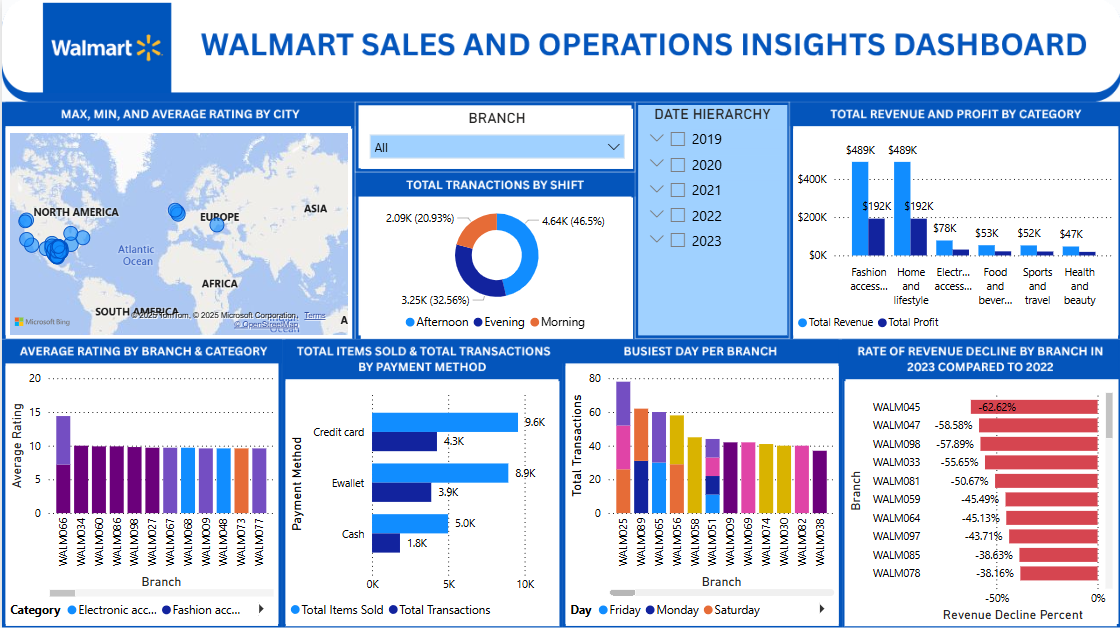

This screenshot's page, from the dashboard's own definition file:
{"tool":"powerbi","page":{"name":"Walmart_Dashboard","canvas":[1280,720],"ordinal":0},"visuals":[{"type":"clusteredBarChart","fields":{"Category":["walmart_sales.payment_method"],"Y":["walmart_sales.Total_Items_Sold","walmart_sales.Total_Transactions"]},"box":[324,436,313,280],"z":0},{"type":"columnChart","fields":{"Category":["CategoryRatings.branch"],"Y":["Sum(CategoryRatings.AvgRating)"],"Series":["CategoryRatings.category"]},"box":[4.3,418.6,311.4,297.1],"z":1000},{"type":"columnChart","title":"Busiest Day per Branch","fields":{"Series":["TransactionsByDay.DayName"],"Category":["TransactionsByDay.branch"],"Y":["Sum(TransactionsByDay.NumTransactions)"]},"box":[644,418,312,297.1],"z":2000},{"type":"map","fields":{"Category":["walmart_sales.city"],"Size":["walmart_sales.Average_Rating"]},"box":[4.3,147.1,395.7,240],"z":3000},{"type":"clusteredColumnChart","title":"Total Revenue and Profit by Category","fields":{"Category":["walmart_sales.category"],"Y":["walmart_sales.Total_Revenue","walmart_sales.Total_Profit"]},"box":[904,147.1,371,240],"z":4000},{"type":"donutChart","title":"Total Transactions by Shift","fields":{"Y":["CountNonNull(walmart_sales.invoice_id)"],"Series":["walmart_sales.TimeOfDay"]},"box":[410,225.7,311.4,161.4],"z":5000},{"type":"slicer","title":"BRANCH","fields":{"Values":["walmart_sales.branch"]},"box":[410,124.3,311.4,68.6],"z":6000},{"type":"barChart","fields":{"Category":["walmart_sales.branch"],"Y":["walmart_sales.RevenueDeclinePercent"]},"box":[962.9,435.7,311.4,280],"z":7000},{"type":"slicer","title":"DATE HIERARCHY","fields":{"Values":["walmart_sales.formatted_date.Variation.Date Hierarchy.Year","walmart_sales.formatted_date.Variation.Date Hierarchy.Quarter","walmart_sales.formatted_date.Variation.Date Hierarchy.Month","walmart_sales.formatted_date.Variation.Date Hierarchy.Day"]},"box":[727,120,170,262.9],"z":8000}]}

Visuals, with their boxes in screenshot pixels (x1, y1, x2, y2), scaled from the page's 1280x720 canvas onto the 1120x628 screenshot:
clusteredBarChart - walmart_sales.payment_method x walmart_sales.Total_Items_Sold: left=284, top=380, right=557, bottom=625
columnChart - CategoryRatings.branch x Sum(CategoryRatings.AvgRating): left=4, top=365, right=276, bottom=624
"Busiest Day per Branch" columnChart: left=564, top=365, right=836, bottom=624
map - walmart_sales.city x walmart_sales.Average_Rating: left=4, top=128, right=350, bottom=338
"Total Revenue and Profit by Category" clusteredColumnChart: left=791, top=128, right=1116, bottom=338
"Total Transactions by Shift" donutChart: left=359, top=197, right=631, bottom=338
"BRANCH" slicer: left=359, top=108, right=631, bottom=168
barChart - walmart_sales.branch x walmart_sales.RevenueDeclinePercent: left=843, top=380, right=1115, bottom=624
"DATE HIERARCHY" slicer: left=636, top=105, right=785, bottom=334
